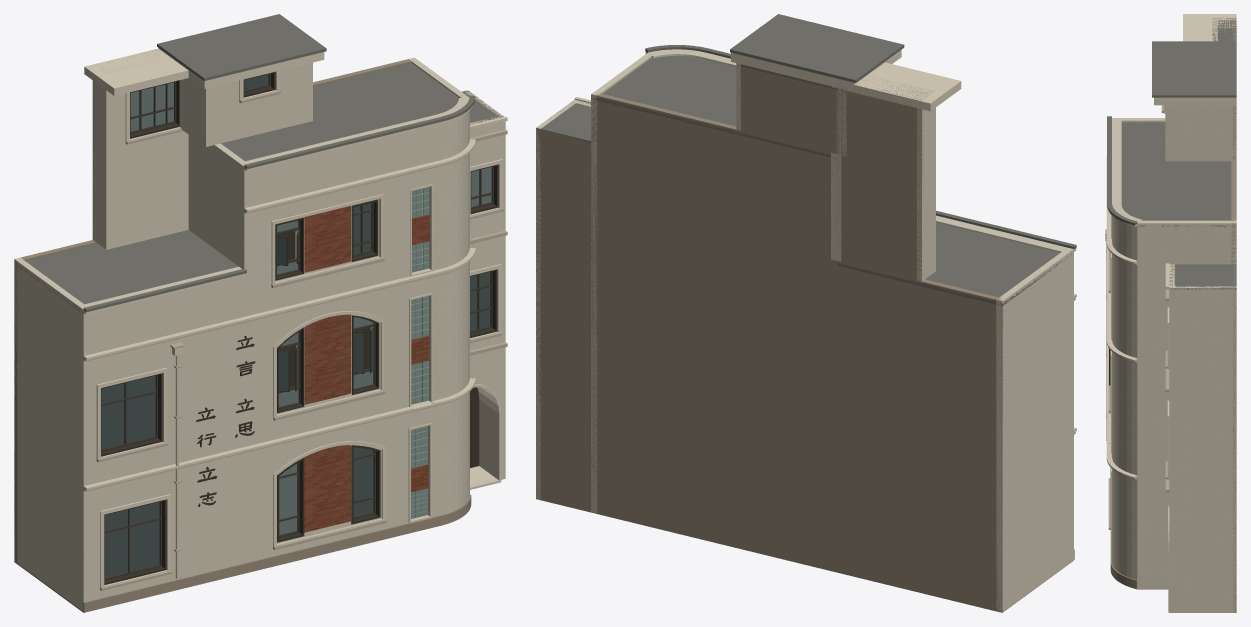
File: xuhui-jianguo-629-rounded-garden-residence-lod.glb
The picture shows the model from 3 angles, left to right: view 1: azimuth 30°, elevation 25°; view 2: azimuth 150°, elevation 25°; view 3: azimuth 270°, elevation 25°; orthographic projection. The views are drawn at different scales.
Parts seen in each view (by area): view 1: 建国西路629号住宅花园立面; view 2: 建国西路629号住宅花园立面; view 3: 建国西路629号住宅花园立面.
Part boxes in pixels (x1,y1,x2,y2): 建国西路629号住宅花园立面: (14,14,507,612); 建国西路629号住宅花园立面: (536,14,1076,612); 建国西路629号住宅花园立面: (1105,14,1236,612).
Bounding box in the file's own units: 11.89 × 12.15 × 3.32.
Materials: 12 (2 with a texture image).
